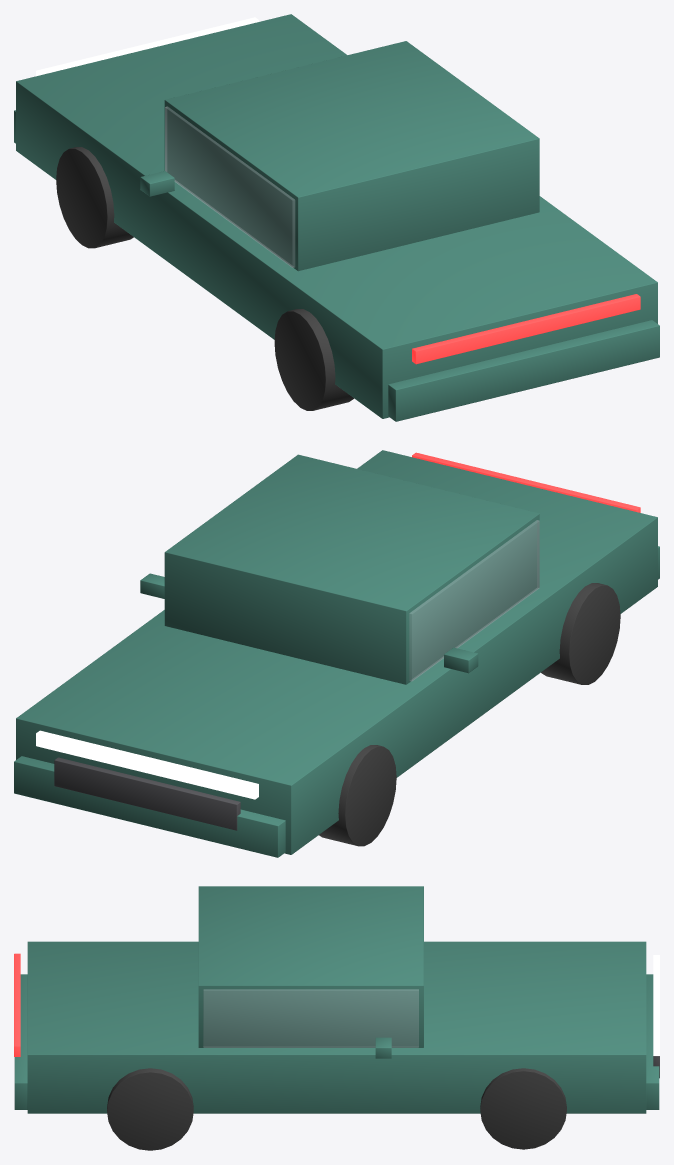
Rendered from vehicle.glb.
3 views of the same model, one above another, from view 1: azimuth 30°, elevation 25°; view 2: azimuth 150°, elevation 25°; view 3: azimuth 270°, elevation 25° (orthographic). The views are drawn at different scales.
Visible parts, largest first — view 1: BODY_Main, BODY_Roof, BODY_Bumpers_Rear, GLASS_Greenhouse, WHEEL_RR_Tire, WHEEL_FR_Tire, LIGHT_Taillights, LIGHT_Headlights, BODY_Mirror_R; view 2: BODY_Main, BODY_Roof, GLASS_Greenhouse, BODY_Bumpers_Front, BODY_Grille, WHEEL_RR_Tire, WHEEL_FR_Tire, LIGHT_Headlights, LIGHT_Taillights, BODY_Mirror_R; view 3: BODY_Main, BODY_Roof, GLASS_Greenhouse, WHEEL_RL_Tire, WHEEL_FL_Tire, BODY_Bumpers_Rear, BODY_Bumpers_Front, LIGHT_Taillights, LIGHT_Headlights.
Boxes of the visible parts, left/top/right/bottom form: BODY_Main: left=16, top=14, right=657, bottom=418; BODY_Roof: left=164, top=41, right=539, bottom=271; BODY_Bumpers_Rear: left=388, top=320, right=659, bottom=421; GLASS_Greenhouse: left=165, top=106, right=294, bottom=267; WHEEL_RR_Tire: left=274, top=309, right=353, bottom=410; WHEEL_FR_Tire: left=56, top=147, right=133, bottom=248; LIGHT_Taillights: left=412, top=294, right=640, bottom=364; LIGHT_Headlights: left=36, top=17, right=258, bottom=76; BODY_Mirror_R: left=140, top=171, right=174, bottom=196; BODY_Main: left=16, top=450, right=657, bottom=854; BODY_Roof: left=164, top=454, right=539, bottom=684; GLASS_Greenhouse: left=409, top=520, right=539, bottom=681; BODY_Bumpers_Front: left=14, top=756, right=285, bottom=857; BODY_Grille: left=54, top=757, right=240, bottom=830; WHEEL_RR_Tire: left=541, top=583, right=620, bottom=684; WHEEL_FR_Tire: left=319, top=745, right=396, bottom=846; LIGHT_Headlights: left=36, top=730, right=258, bottom=799; LIGHT_Taillights: left=412, top=452, right=640, bottom=512; BODY_Mirror_R: left=444, top=647, right=478, bottom=673; BODY_Main: left=27, top=941, right=646, bottom=1113; BODY_Roof: left=198, top=886, right=423, bottom=1047; GLASS_Greenhouse: left=203, top=989, right=418, bottom=1047; WHEEL_RL_Tire: left=107, top=1068, right=193, bottom=1150; WHEEL_FL_Tire: left=480, top=1068, right=566, bottom=1149; BODY_Bumpers_Rear: left=14, top=974, right=27, bottom=1109; BODY_Bumpers_Front: left=646, top=974, right=659, bottom=1109; LIGHT_Taillights: left=14, top=953, right=20, bottom=1056; LIGHT_Headlights: left=653, top=955, right=659, bottom=1055.
Size of the model in its own units: 2.36 by 1.26 by 4.76.
